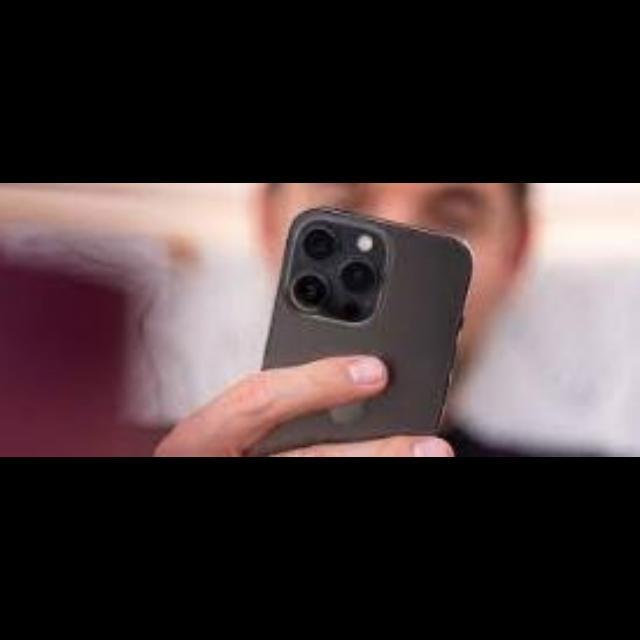PhoneUse: (248, 204, 474, 456)
SafeDriving: (282, 262, 337, 323)
